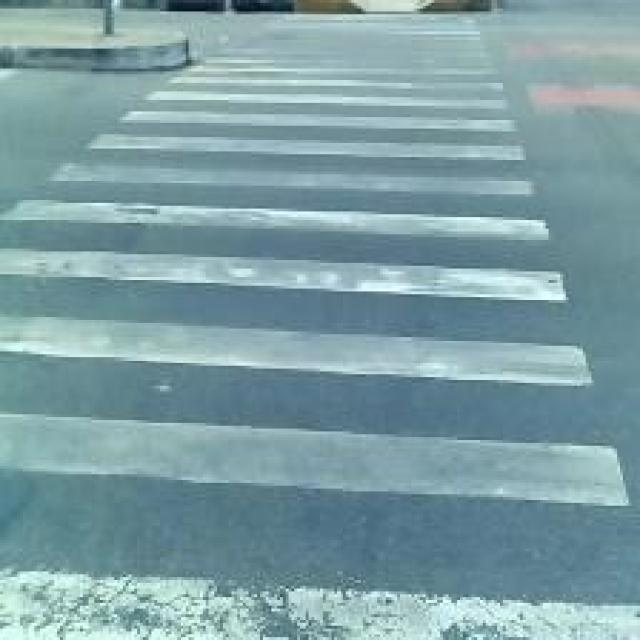walk-crossing: (5, 25, 605, 640)
